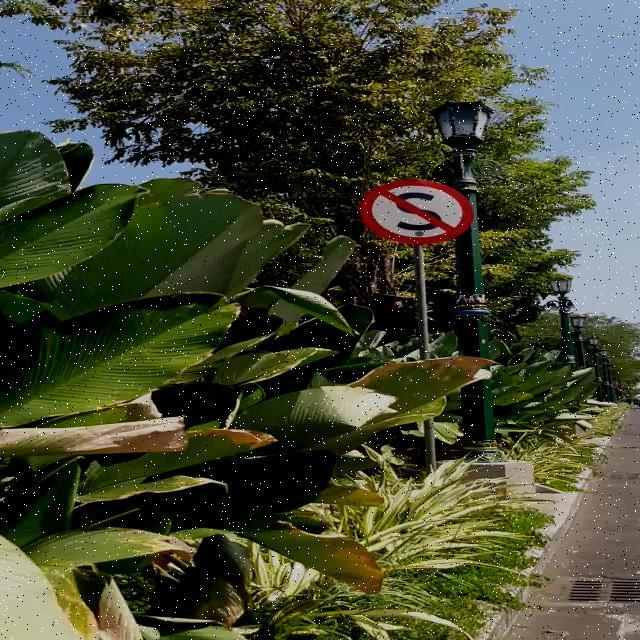Dilarang Berhenti: (360, 179, 474, 244)
